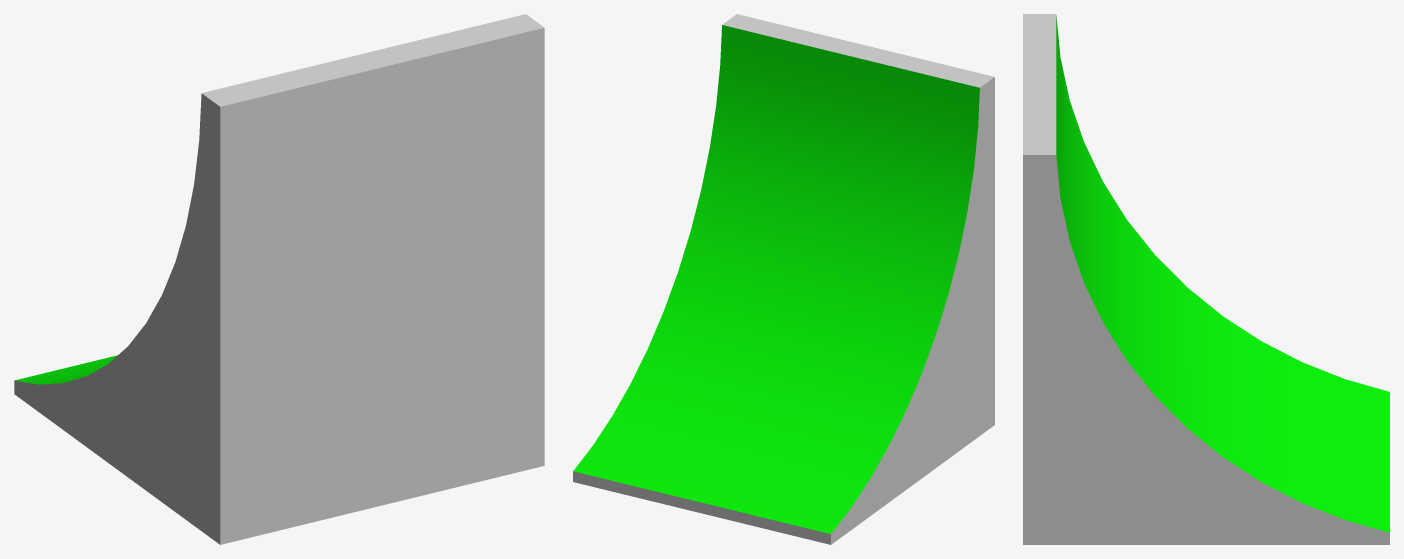
File: left1.fbx
The picture shows the model from 3 angles, left to right: view 1: azimuth 30°, elevation 25°; view 2: azimuth 150°, elevation 25°; view 3: azimuth 270°, elevation 25°; orthographic projection. The views are drawn at different scales.
Visible parts, largest first — view 1: Model; view 2: Model; view 3: Model.
Boxes of the visible parts, x1=… form: Model: x1=14, y1=14, x2=544, y2=544; Model: x1=573, y1=14, x2=994, y2=544; Model: x1=1023, y1=14, x2=1389, y2=544.
Size of the model in its own units: 1000 by 1290 by 1100.
